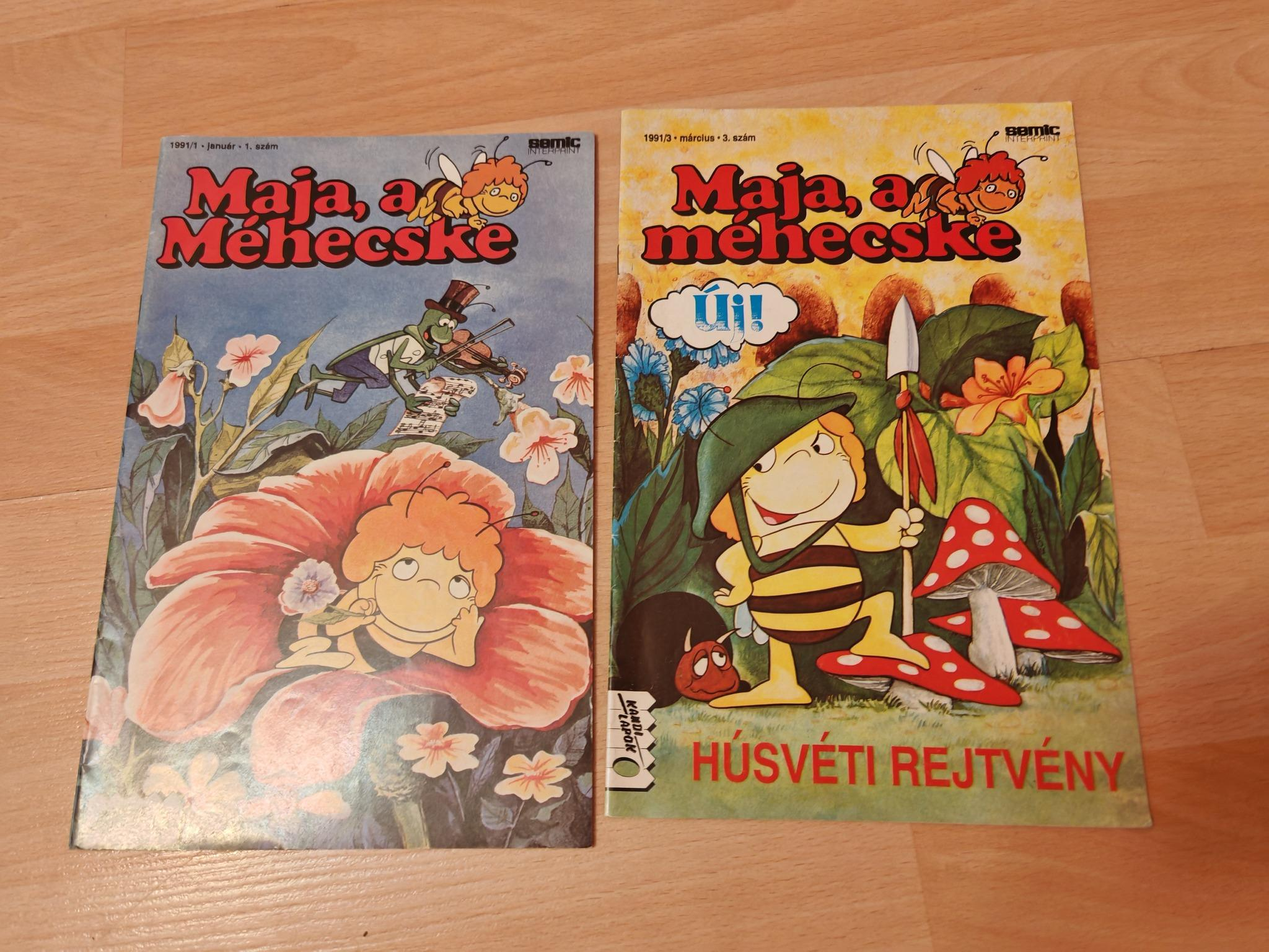comic: (607, 103, 1149, 826), (71, 131, 595, 850)
